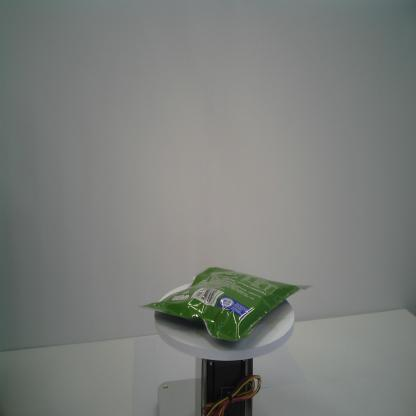Dried Fruit: (137, 266, 315, 343)
